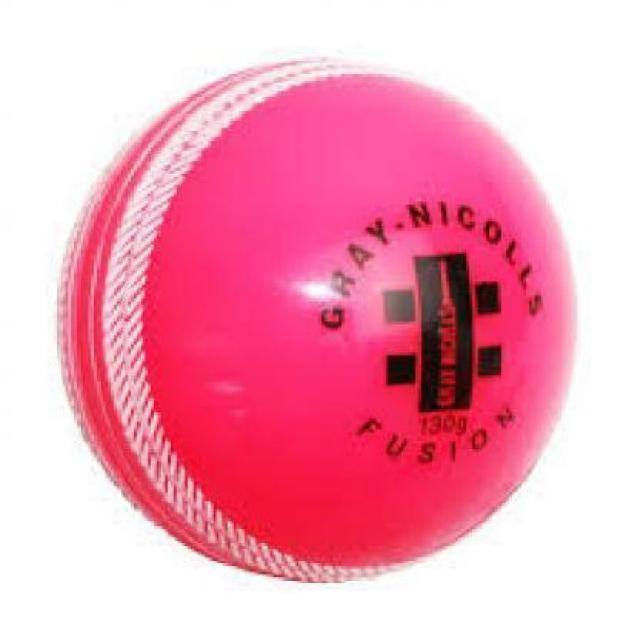-: (89, 85, 580, 582)
